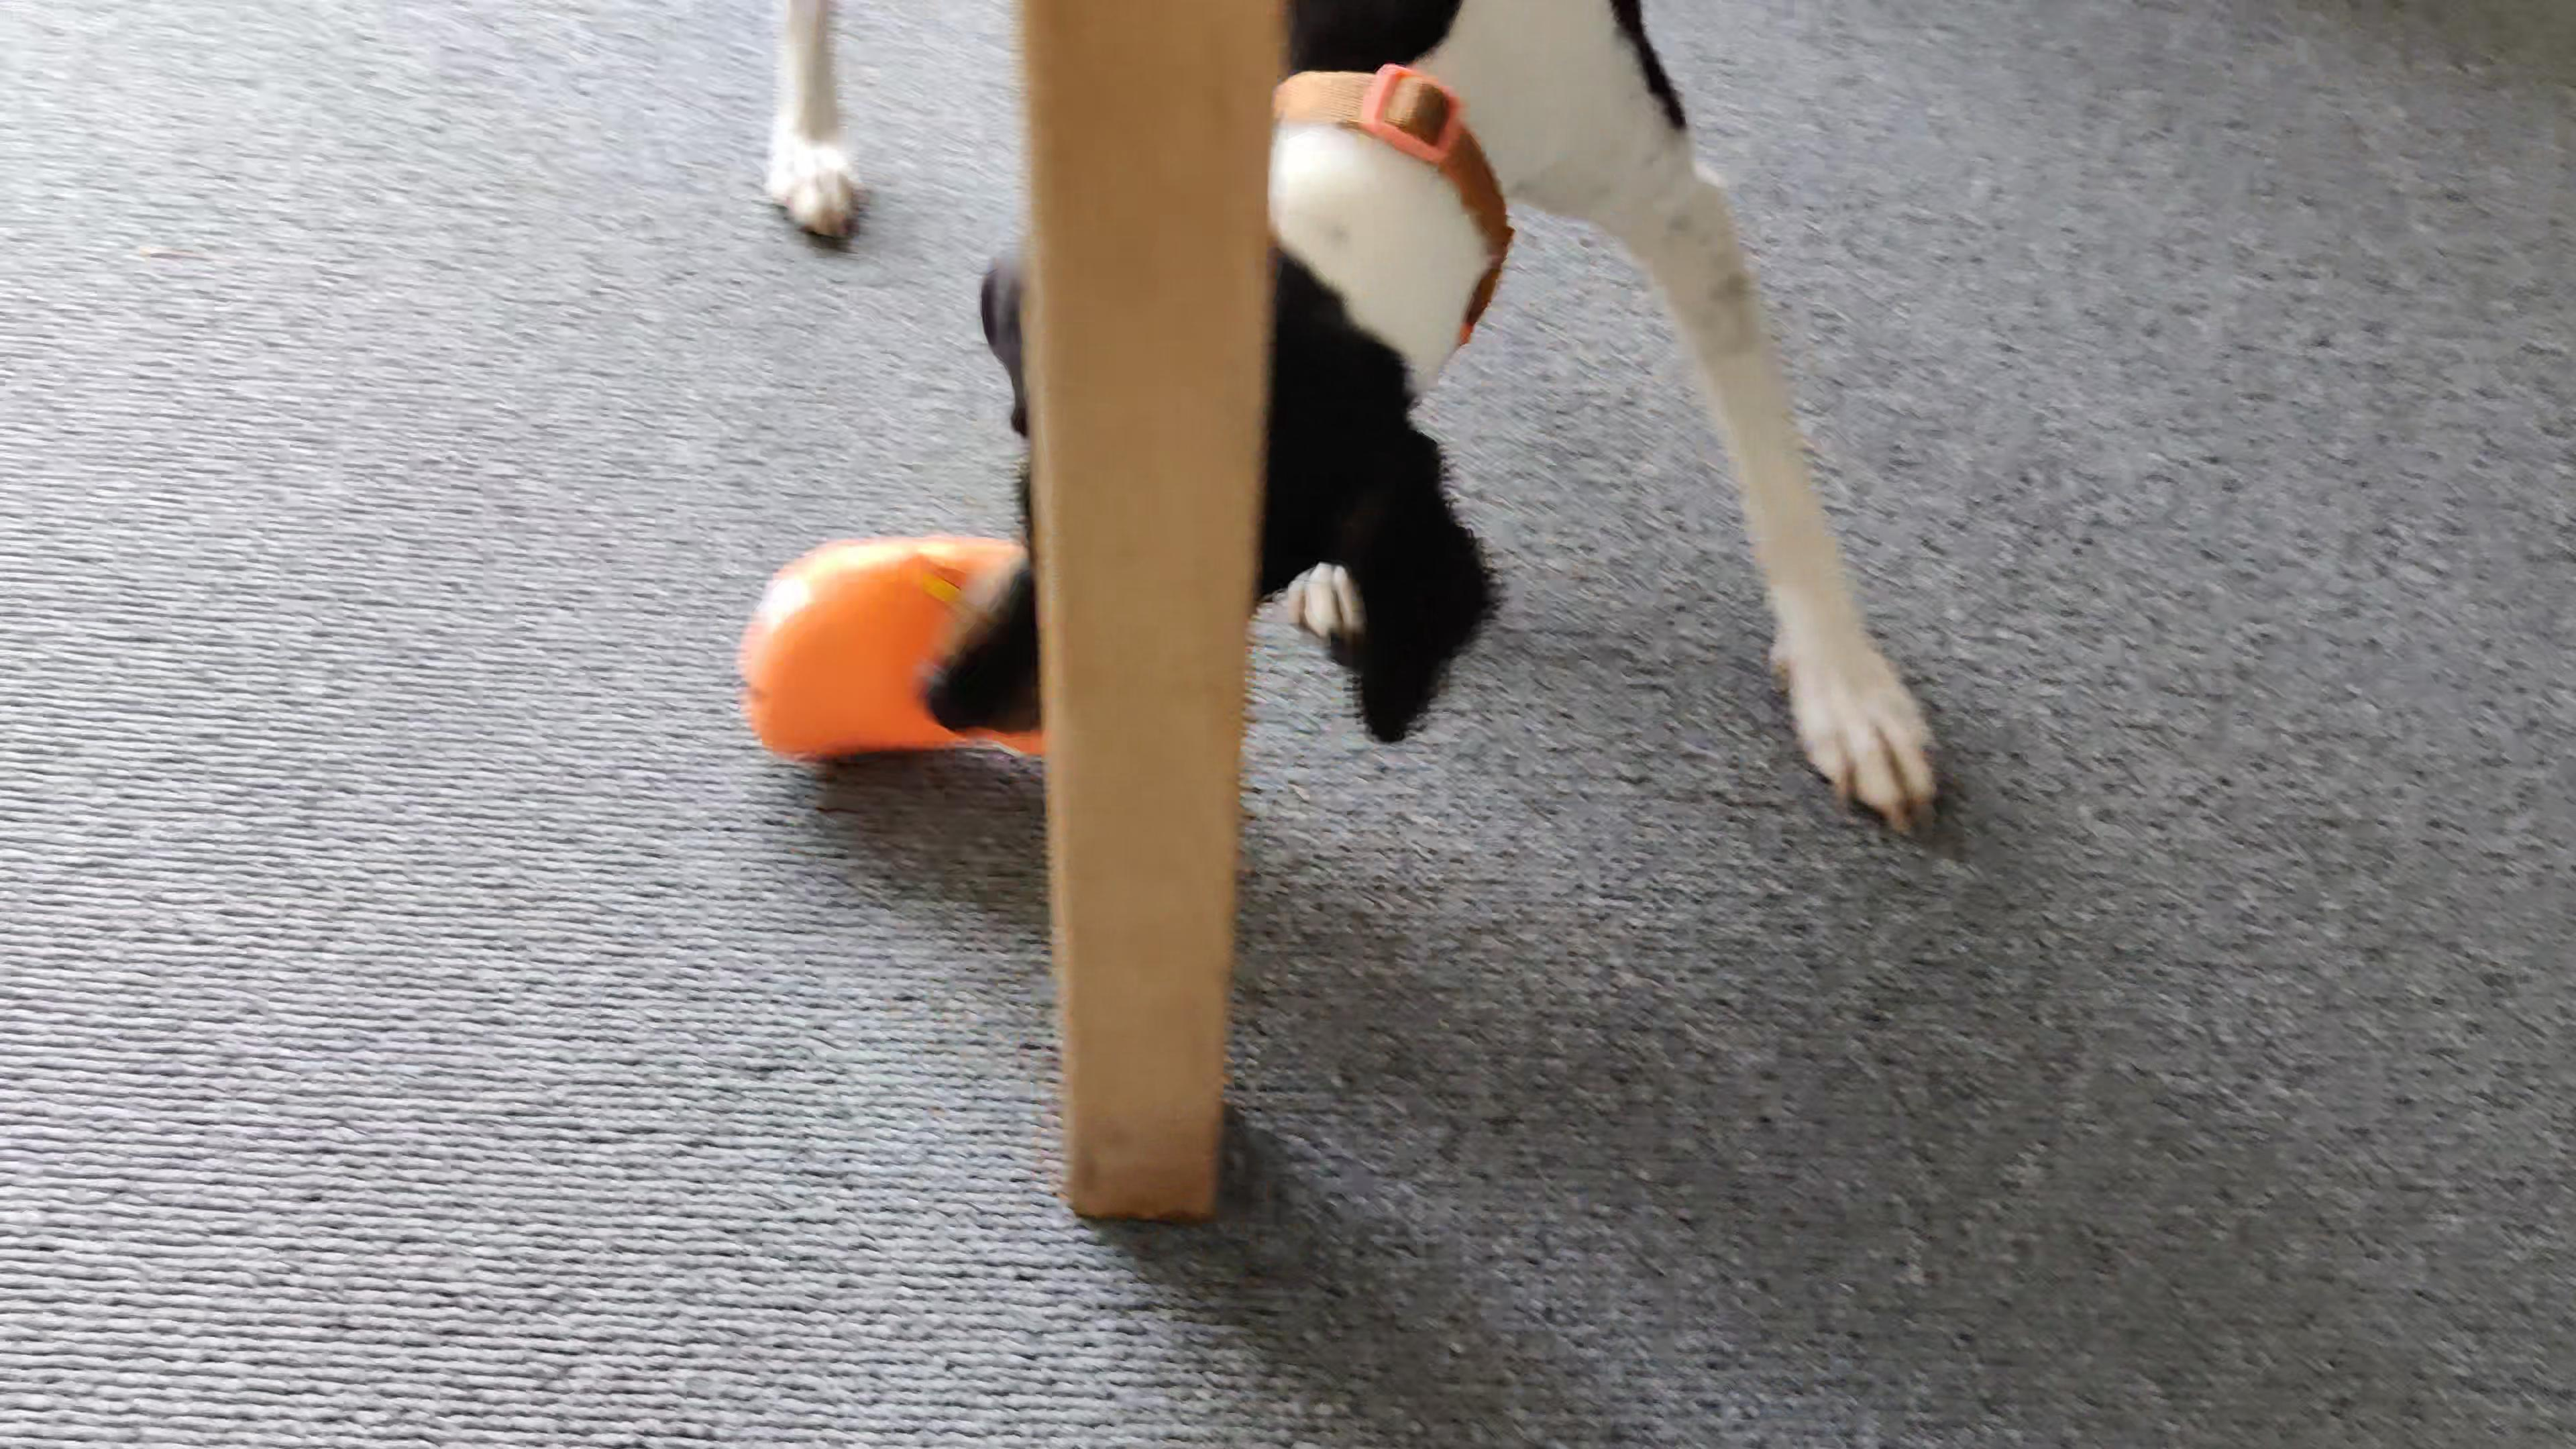Dog: (741, 0, 2001, 876)
